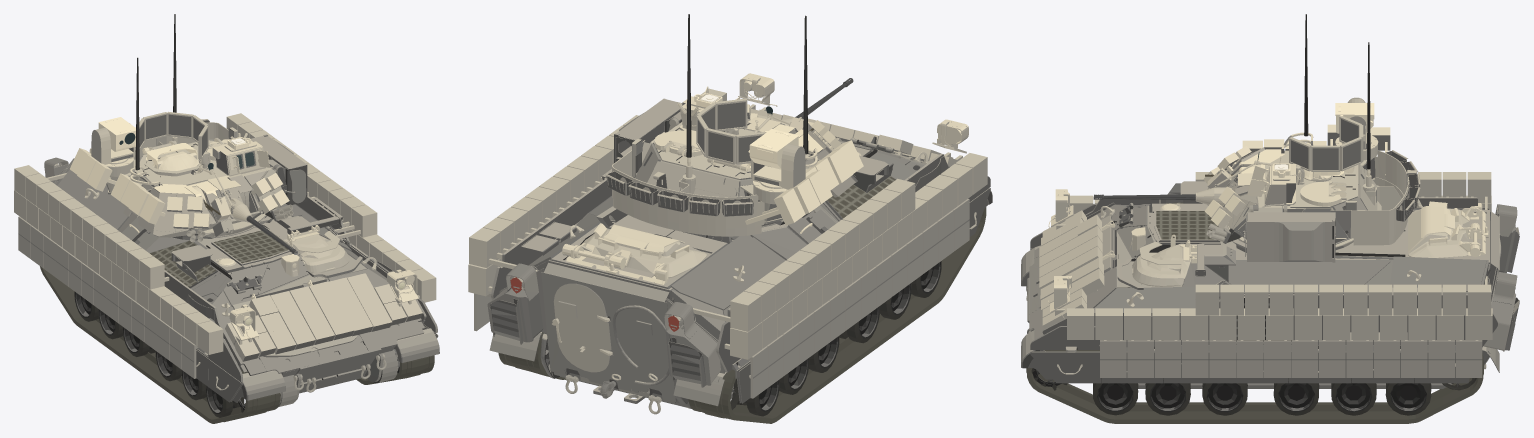
The model's file is bradley_busk_iii.glb.
The picture shows the model from 3 angles, left to right: view 1: azimuth 30°, elevation 25°; view 2: azimuth 150°, elevation 25°; view 3: azimuth 270°, elevation 25°; orthographic projection. The views are drawn at different scales.
Visible parts, largest first — view 1: WT_@root, WT_bone_turret, WT_track_r, WT_hatch_01, WT_hatch_02, WT_ex_decor_r_05, WT_roll_05, WT_ex_decor_l_04, WT_ex_armor_03, BRAT_M5_L_HIGH_01, WT_bone_commander_sight_v, WT_ex_armor_r_01 (+59 smaller); view 2: WT_@root, WT_bone_turret, WT_rear_ramp, WT_track_r, WT_hatch_04, WT_hatch_05, WT_ex_decor_r_04, WT_ex_decor_l_09, WT_roll_05, WT_ex_armor_03, BRAT_M5_R_HIGH_12, WT_Hull_RoofHatchFixedHinges (+66 smaller); view 3: WT_@root, WT_bone_turret, WT_track_l, WT_roll_05, WT_hatch_05, WT_hatch_01, WT_ex_armor_l_01, WT_ex_decor_l_09, WT_wheel_l_02, WT_wheel_l_05, WT_wheel_l_04, WT_wheel_l_06 (+62 smaller).
Boxes of the visible parts, x1,y1,x2,y2 form: WT_@root: (57, 169, 437, 407); WT_bone_turret: (105, 119, 281, 237); WT_track_r: (40, 266, 280, 423); WT_hatch_01: (284, 225, 349, 273); WT_hatch_02: (142, 140, 199, 170); WT_ex_decor_r_05: (233, 370, 285, 402); WT_roll_05: (251, 134, 307, 204); WT_ex_decor_l_04: (395, 328, 439, 362); WT_ex_armor_03: (91, 123, 135, 164); BRAT_M5_L_HIGH_01: (327, 205, 377, 238); WT_bone_commander_sight_v: (98, 117, 135, 151); WT_ex_armor_r_01: (208, 359, 242, 402); WT_@root: (491, 136, 990, 408); WT_bone_turret: (605, 96, 857, 236); WT_rear_ramp: (541, 262, 677, 403); WT_track_r: (688, 207, 986, 423); WT_hatch_04: (552, 283, 612, 372); WT_hatch_05: (574, 223, 706, 278); WT_ex_decor_r_04: (664, 298, 725, 387); WT_ex_decor_l_09: (487, 263, 546, 344); WT_roll_05: (614, 98, 682, 163); WT_ex_armor_03: (751, 138, 805, 189); BRAT_M5_R_HIGH_12: (693, 291, 761, 331); WT_Hull_RoofHatchFixedHinges: (562, 244, 668, 284); WT_@root: (1027, 181, 1497, 365); WT_bone_turret: (1223, 132, 1420, 249); WT_track_l: (1026, 350, 1483, 423); WT_roll_05: (1247, 212, 1335, 262); WT_hatch_05: (1408, 201, 1480, 257); WT_hatch_01: (1132, 234, 1192, 286); WT_ex_armor_l_01: (1030, 351, 1101, 383); WT_ex_decor_l_09: (1483, 266, 1519, 351); WT_wheel_l_02: (1145, 378, 1190, 415); WT_wheel_l_05: (1331, 378, 1376, 415); WT_wheel_l_04: (1273, 378, 1319, 415); WT_wheel_l_06: (1385, 378, 1431, 415).
Size of the model in its own units: 3.76 by 4.77 by 6.58.
Materials: 50 (1 with a texture image).
